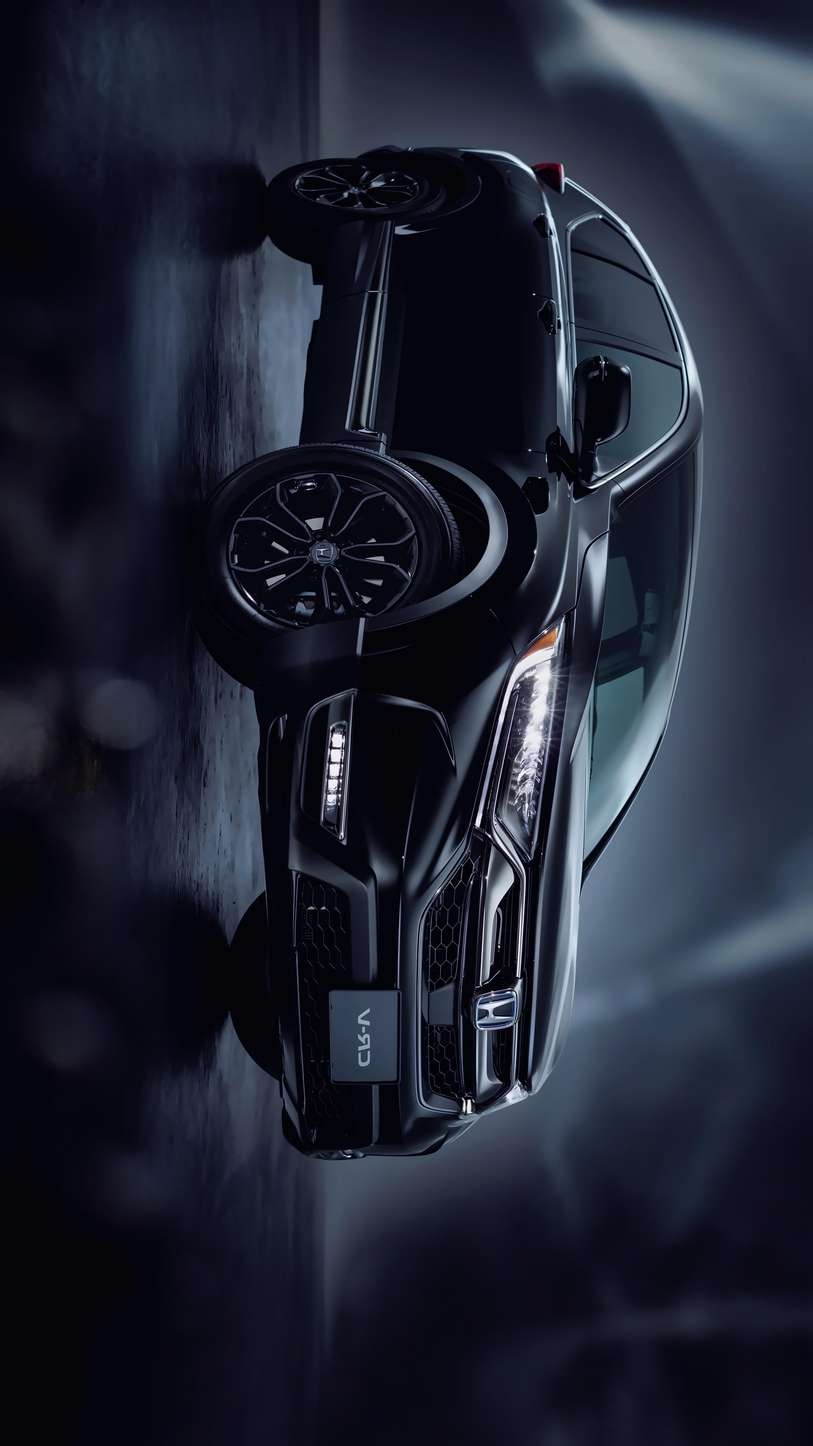Car hood: (517, 531, 623, 1119)
Driver-s door - -F-R-: (381, 323, 703, 485)
Fender - -F-R-: (291, 413, 608, 667)
Front bumper: (246, 602, 500, 1175)
Headlight - -L-: (486, 1034, 549, 1153)
Headlight - -R-: (463, 608, 580, 882)
Passenger-s door - -R-R-: (387, 212, 687, 334)
Rear bumper: (404, 133, 539, 226)
Rear light - -R-: (514, 145, 582, 218)
Side bumper - -R-: (302, 204, 395, 464)
Side mirror - -R-: (559, 345, 646, 470)
